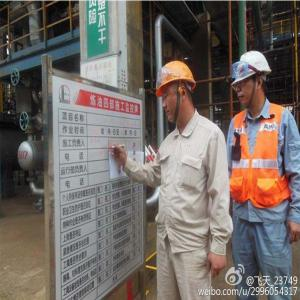white: (232, 52, 272, 111)
yellow: (156, 62, 194, 127)
